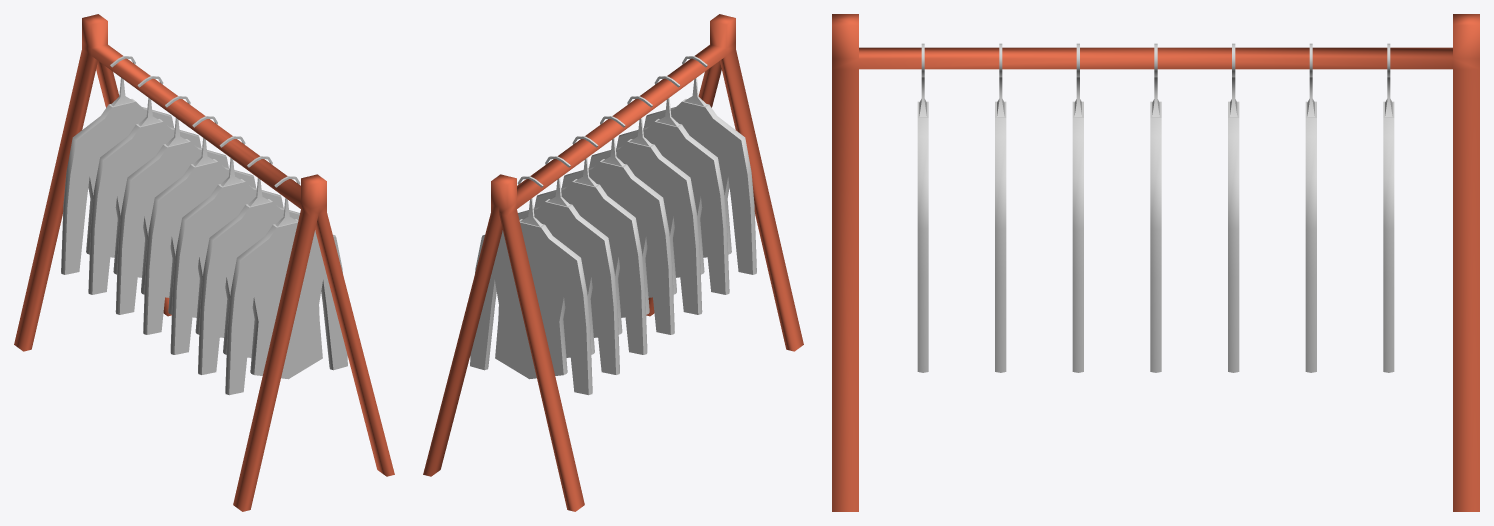
Rendered from StandDeRopaNivel1_low.fbx.
The picture shows the model from 3 angles, left to right: view 1: azimuth 30°, elevation 25°; view 2: azimuth 150°, elevation 25°; view 3: azimuth 270°, elevation 25°; orthographic projection. The views are drawn at different scales.
Parts seen in each view (by area): view 1: Palo_low, Camisa1_low, Camisa3_low, Camisa4_low, Camisa6_low, Camisa5_low, Camisa7_low, Camisa2_low; view 2: Palo_low, Camisa7_low, Camisa5_low, Camisa4_low, Camisa2_low, Camisa3_low, Camisa1_low, Camisa6_low; view 3: Palo_low, Camisa1_low, Camisa2_low, Camisa3_low, Camisa4_low, Camisa5_low, Camisa6_low, Camisa7_low.
Boxes of the visible parts, x1,y1,x2,y2 form: Palo_low: [14, 14, 394, 511]; Camisa1_low: [225, 176, 347, 395]; Camisa3_low: [170, 136, 283, 354]; Camisa4_low: [143, 116, 256, 334]; Camisa6_low: [88, 76, 201, 294]; Camisa5_low: [115, 96, 228, 314]; Camisa7_low: [61, 56, 173, 274]; Camisa2_low: [198, 156, 319, 374]; Palo_low: [423, 14, 803, 511]; Camisa7_low: [470, 176, 592, 395]; Camisa5_low: [534, 136, 647, 354]; Camisa4_low: [561, 116, 674, 334]; Camisa2_low: [616, 76, 729, 294]; Camisa3_low: [589, 96, 702, 314]; Camisa1_low: [644, 56, 756, 274]; Camisa6_low: [498, 156, 619, 374]; Palo_low: [832, 14, 1479, 511]; Camisa1_low: [917, 43, 928, 372]; Camisa2_low: [995, 43, 1006, 372]; Camisa3_low: [1072, 43, 1083, 372]; Camisa4_low: [1150, 43, 1161, 372]; Camisa5_low: [1228, 43, 1239, 372]; Camisa6_low: [1305, 43, 1316, 372]; Camisa7_low: [1383, 43, 1394, 372].
Bounding box in the file's own units: 64.3 × 125 × 167.
